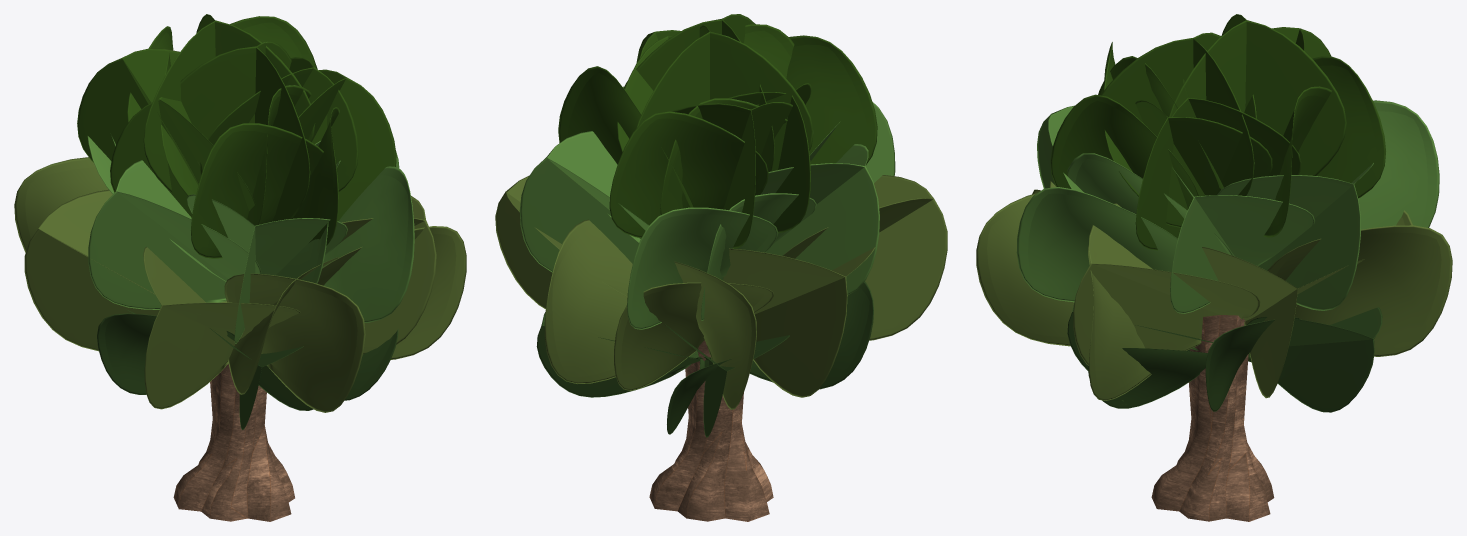
The model's file is FruitTree.fbx.
The picture shows the model from 3 angles, left to right: view 1: azimuth 30°, elevation 25°; view 2: azimuth 150°, elevation 25°; view 3: azimuth 270°, elevation 25°; orthographic projection. The views are drawn at different scales.
Visible parts, largest first — view 1: Leaf, TreeTrunk; view 2: Leaf, TreeTrunk; view 3: Leaf, TreeTrunk.
Boxes of the visible parts, bbox=[...] form: Leaf: bbox=[14, 14, 466, 429]; TreeTrunk: bbox=[173, 363, 294, 521]; Leaf: bbox=[495, 14, 947, 437]; TreeTrunk: bbox=[649, 340, 773, 521]; Leaf: bbox=[976, 14, 1452, 412]; TreeTrunk: bbox=[1151, 315, 1274, 521].
Bounding box in the file's own units: 886 × 1135 × 1035.
